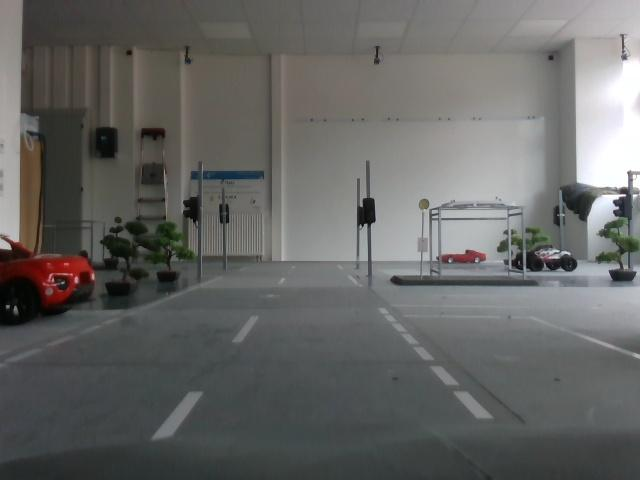car: (2, 230, 99, 328), (516, 241, 578, 277), (438, 244, 491, 267)
potted plant: (596, 220, 640, 278), (110, 230, 142, 301), (151, 221, 181, 286)
traffic light: (364, 189, 382, 231), (218, 202, 243, 228), (186, 194, 204, 230)
